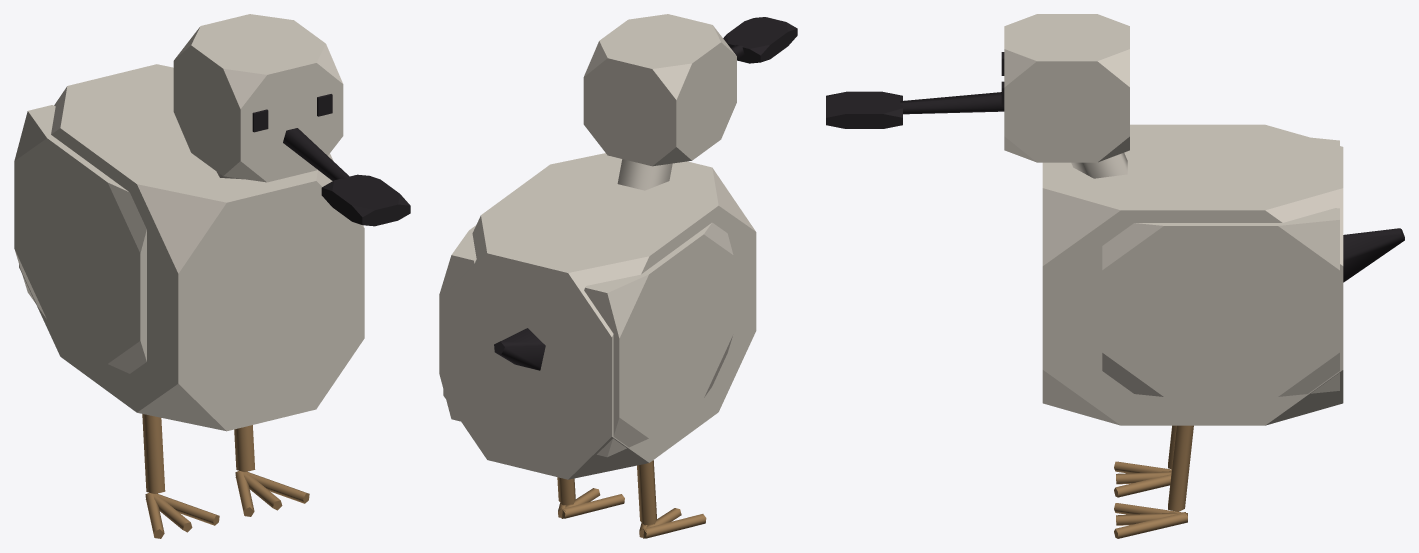
File: original-spoonbill.glb
3 renders of one model, left to right at view 1: azimuth 30°, elevation 25°; view 2: azimuth 150°, elevation 25°; view 3: azimuth 270°, elevation 25°, orthographic. The views are drawn at different scales.
Visible parts, largest first — view 1: spoonbill; view 2: spoonbill; view 3: spoonbill.
Boxes of the visible parts, box(x1,y1,x2,y2) form: spoonbill: box(14, 14, 410, 538); spoonbill: box(439, 14, 797, 538); spoonbill: box(826, 14, 1404, 538).
Bounding box in the file's own units: 0.6201 × 1.48 × 1.66.
